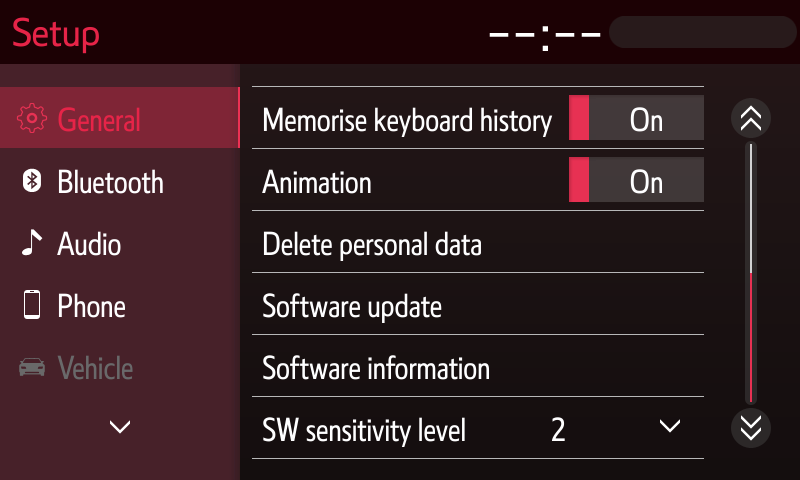touchPart: (252, 329, 709, 405), (250, 81, 718, 154), (251, 143, 715, 216), (254, 205, 711, 278), (251, 271, 709, 343), (253, 394, 713, 465), (10, 161, 191, 204), (13, 219, 143, 266), (11, 282, 138, 329), (728, 407, 781, 453), (733, 95, 773, 142), (102, 409, 139, 442)
untouchPart: (1, 85, 243, 152), (478, 14, 798, 55), (9, 349, 171, 391), (7, 17, 104, 58)
